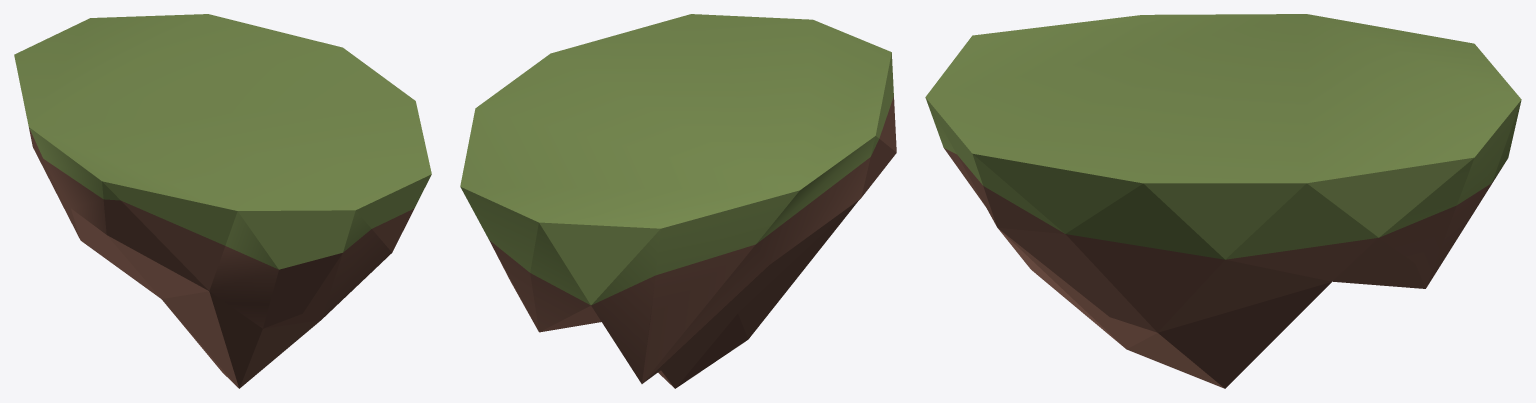
The model's file is lvl2-BloqueCentral.fbx.
The picture shows the model from 3 angles, left to right: view 1: azimuth 30°, elevation 25°; view 2: azimuth 150°, elevation 25°; view 3: azimuth 270°, elevation 25°; orthographic projection. The views are drawn at different scales.
Parts seen in each view (by area): view 1: Icosphere.008; view 2: Icosphere.008; view 3: Icosphere.008.
Part boxes in pixels (<box>): Icosphere.008: <box>14,14,431,388</box>; Icosphere.008: <box>460,14,896,388</box>; Icosphere.008: <box>925,14,1521,388</box>.
Size of the model in its own units: 6879 by 5592 by 10064.
